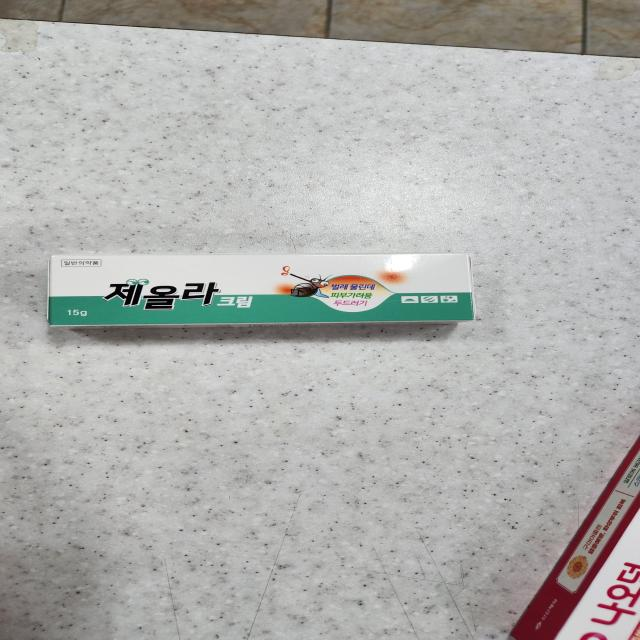box: (48, 253, 474, 326), (511, 440, 640, 640)
